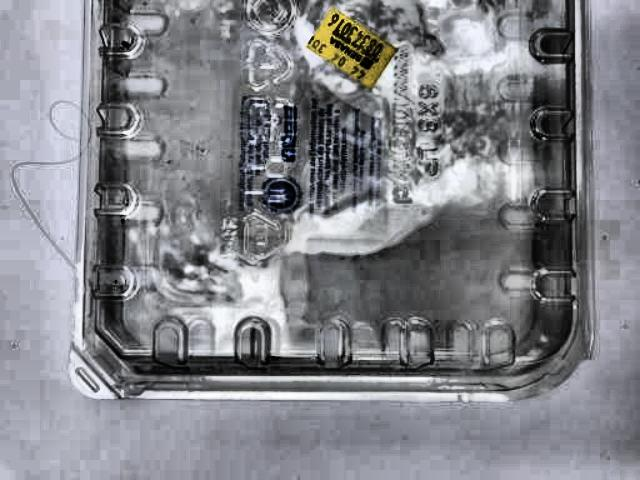Plastic: (12, 4, 615, 406)
